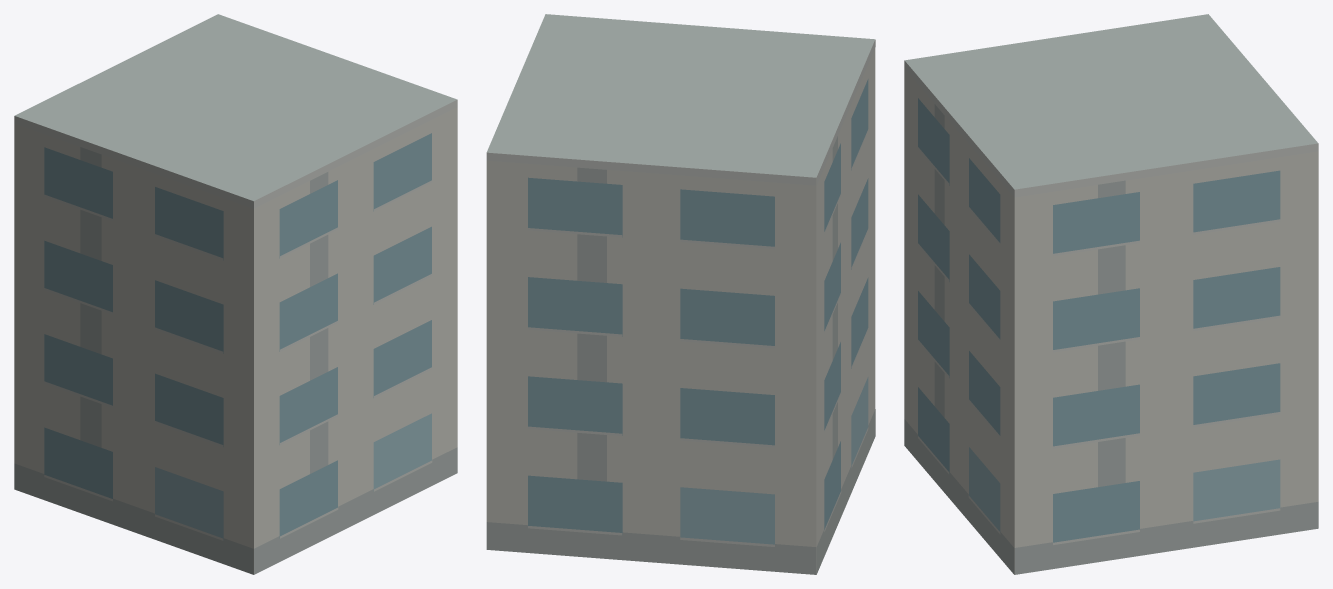
File: residential-aa166ce7-9188-45a9-88c8-8cd1bb345ec3.glb
3 views of the same model, side by side, from view 1: azimuth 30°, elevation 25°; view 2: azimuth 150°, elevation 25°; view 3: azimuth 270°, elevation 25° (orthographic). The views are drawn at different scales.
Visible parts, largest first — view 1: residential-aa166ce7-9188-45a9-88c8-8cd1bb345ec3.tmp; view 2: residential-aa166ce7-9188-45a9-88c8-8cd1bb345ec3.tmp; view 3: residential-aa166ce7-9188-45a9-88c8-8cd1bb345ec3.tmp.
Part boxes in pixels (x1,y1,x2,y2): residential-aa166ce7-9188-45a9-88c8-8cd1bb345ec3.tmp: [14, 14, 457, 574]; residential-aa166ce7-9188-45a9-88c8-8cd1bb345ec3.tmp: [486, 14, 875, 574]; residential-aa166ce7-9188-45a9-88c8-8cd1bb345ec3.tmp: [904, 14, 1318, 574].
Size of the model in its own units: 11.74 by 12 by 11.7.
